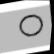no answer: (16, 11, 47, 39)
